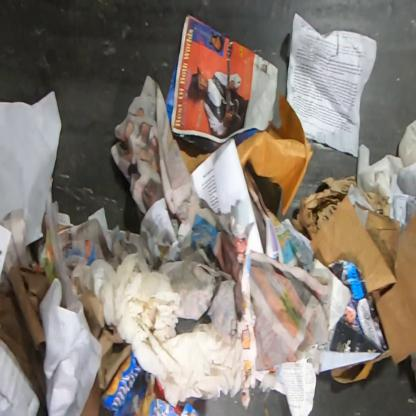cardboard: (310, 183, 404, 292), (0, 264, 51, 415), (370, 206, 415, 367)
soft_plastic: (100, 350, 204, 415)
